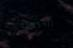five: (32, 20, 36, 27)
four: (27, 20, 31, 28), (37, 19, 41, 27)
nine: (17, 20, 21, 28), (22, 20, 26, 28)
one: (42, 19, 46, 27), (47, 19, 51, 27)
